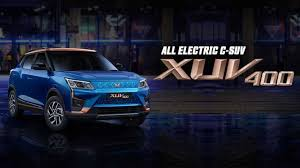XUV 400: (4, 46, 151, 132)
